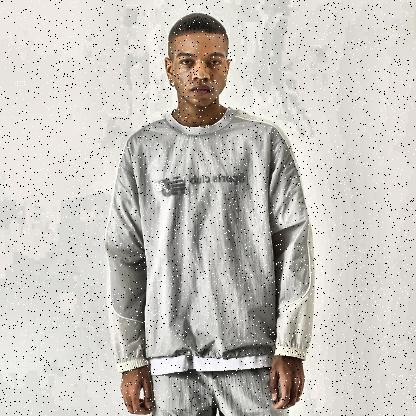sweater: (104, 108, 318, 376)
trousers: (145, 359, 289, 416)
